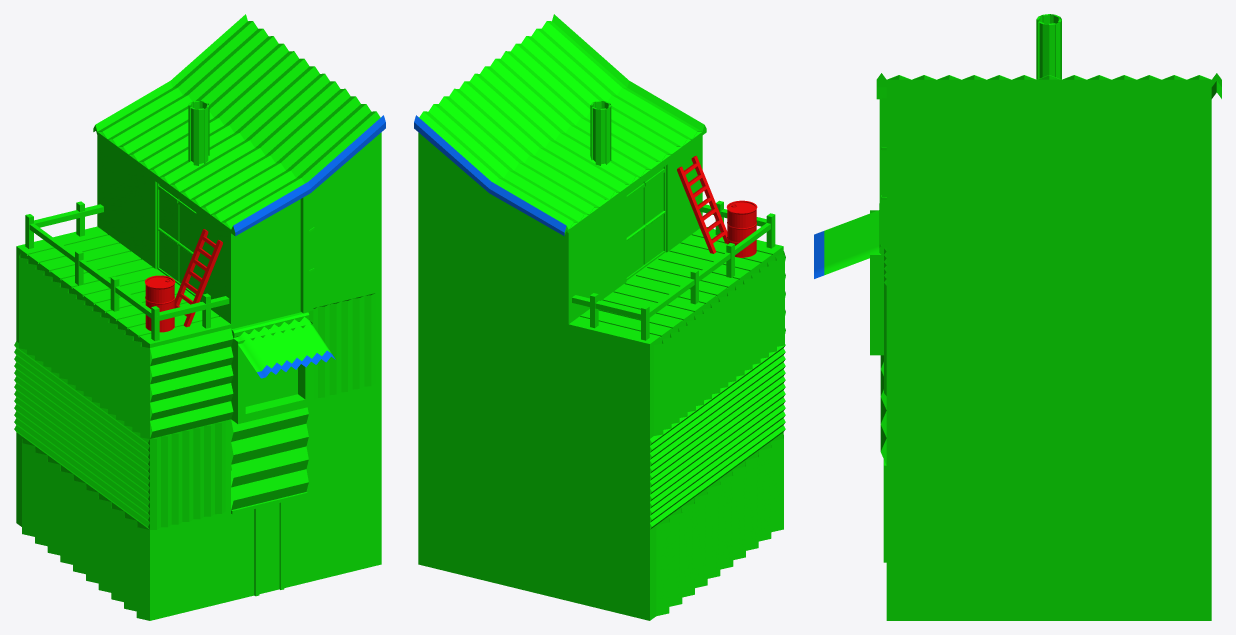
The model's file is RBGTEST2.fbx.
The picture shows the model from 3 angles, left to right: view 1: azimuth 30°, elevation 25°; view 2: azimuth 150°, elevation 25°; view 3: azimuth 270°, elevation 25°; orthographic projection. The views are drawn at different scales.
Parts seen in each view (by area): view 1: Cube.085; view 2: Cube.085; view 3: Cube.085.
Part boxes in pixels (left/top/right/bottom): Cube.085: left=14, top=14, right=385, bottom=620; Cube.085: left=414, top=14, right=785, bottom=620; Cube.085: left=814, top=14, right=1221, bottom=620.
Bounding box in the file's own units: 1014 × 1234 × 1830.
